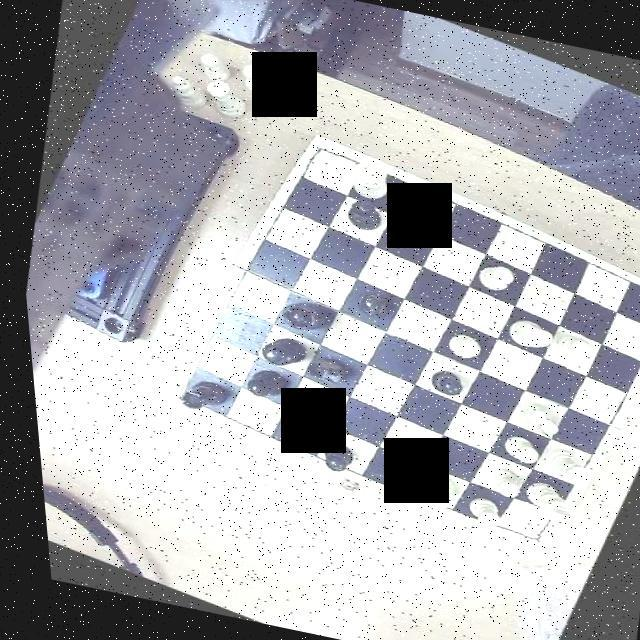chess-table-corners: (161, 370, 206, 412), (296, 136, 342, 177), (504, 517, 546, 551), (634, 284, 640, 322)
